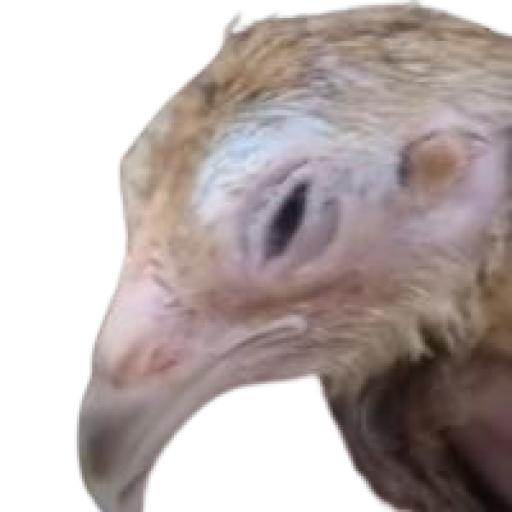disease: (190, 146, 394, 313)
